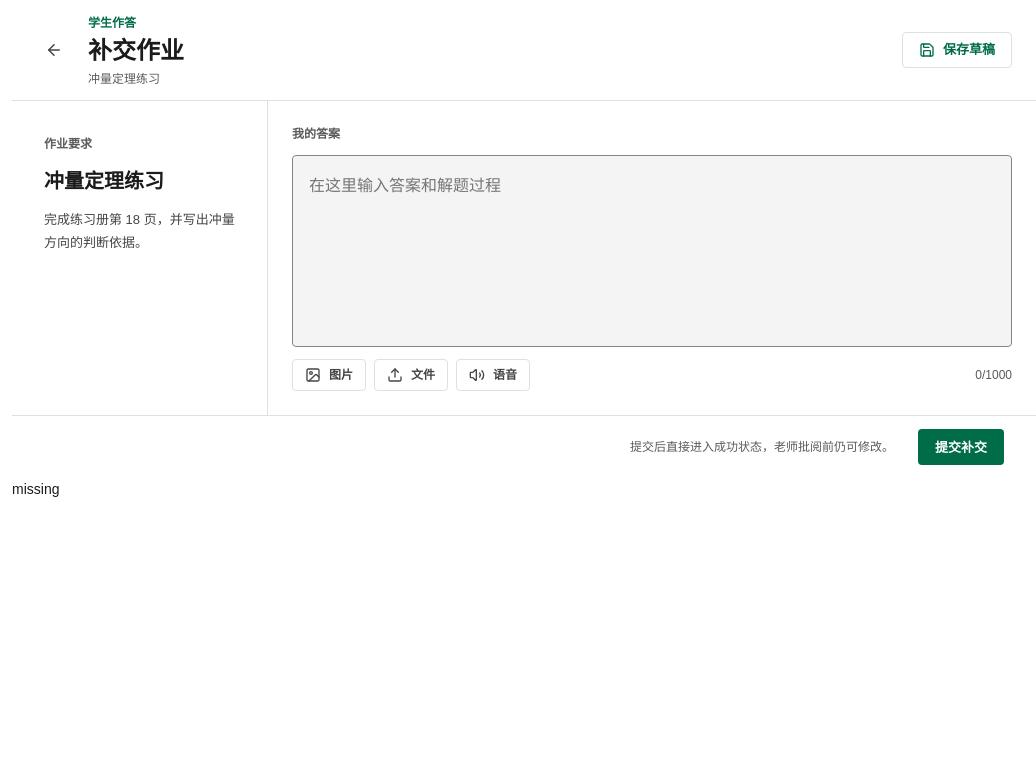
Scenario: homework workspace › marks ended submissions as late only through the late mode
Type "补交冲量方向分析。" into the text box labelled "我的答案" at (652, 251), box [292,155,1012,347]
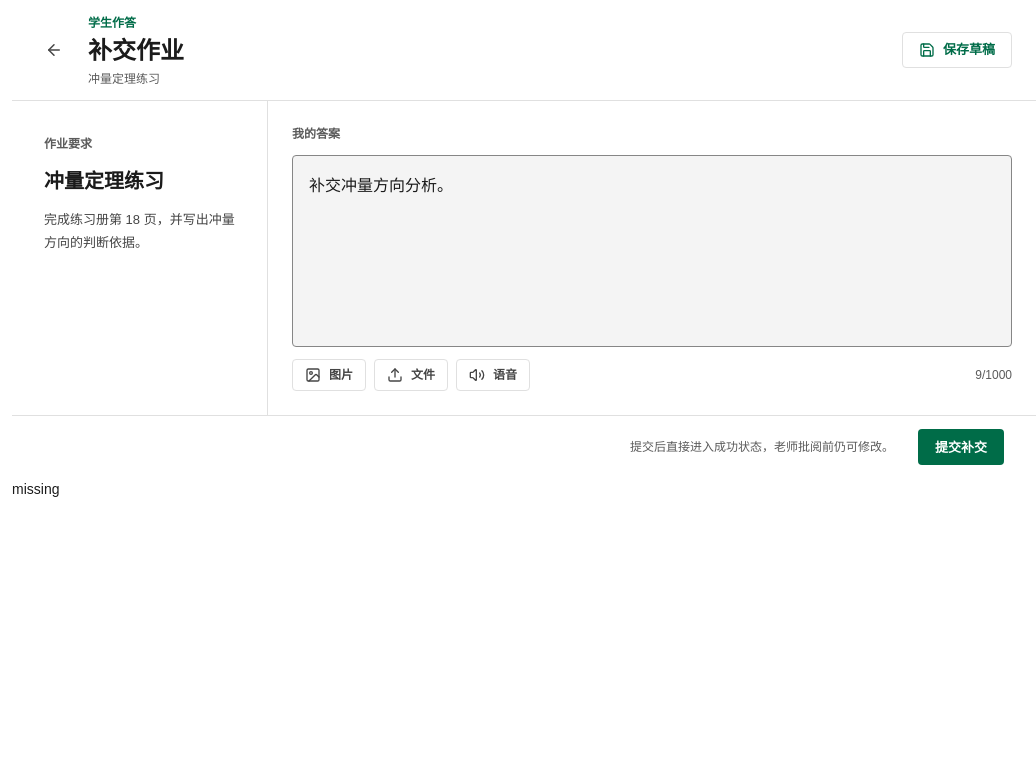
Click the button "提交补交" at (961, 447), box [918,429,1004,465]
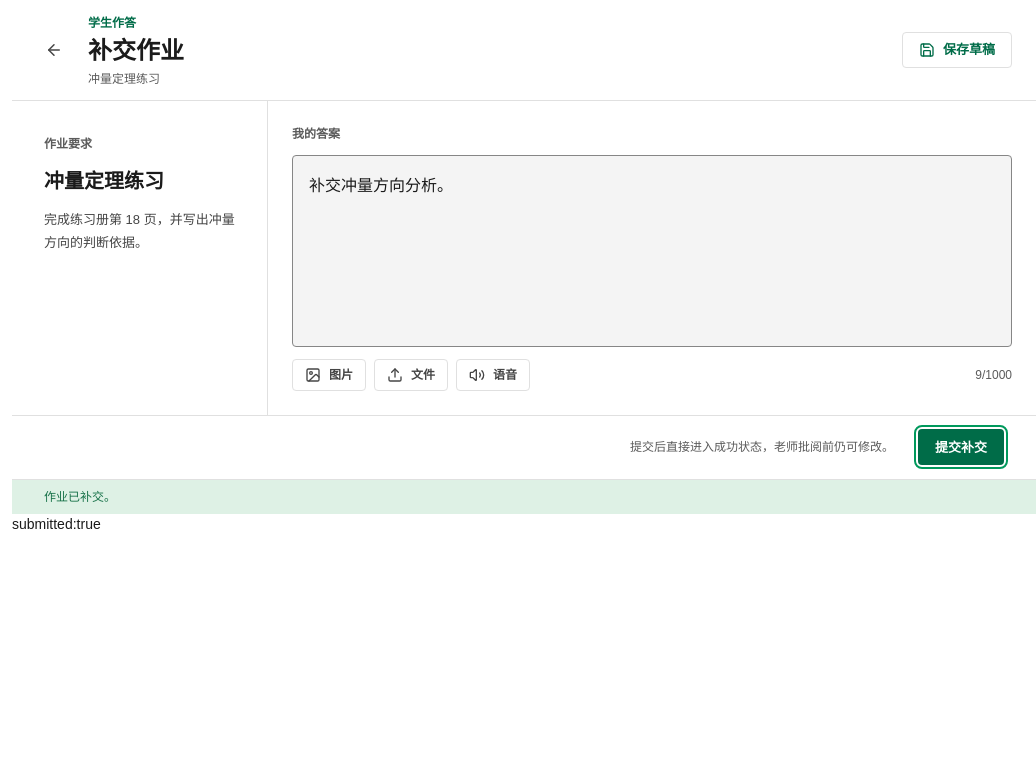
Expected: the text "作业已补交。" is shown, [12,479,1035,514]
Expected: the text with test id "submission-state" reads "submitted:true", [12,516,101,532]
